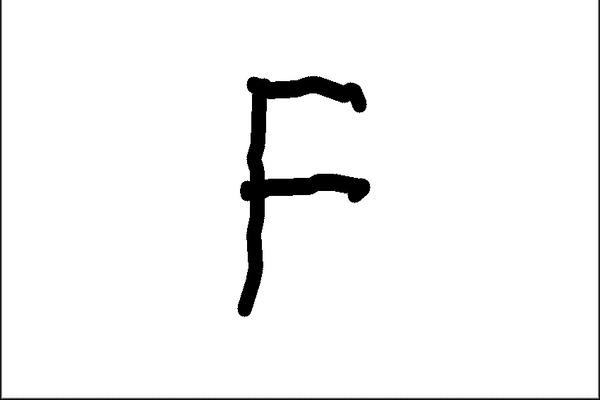F: (235, 73, 375, 321)
